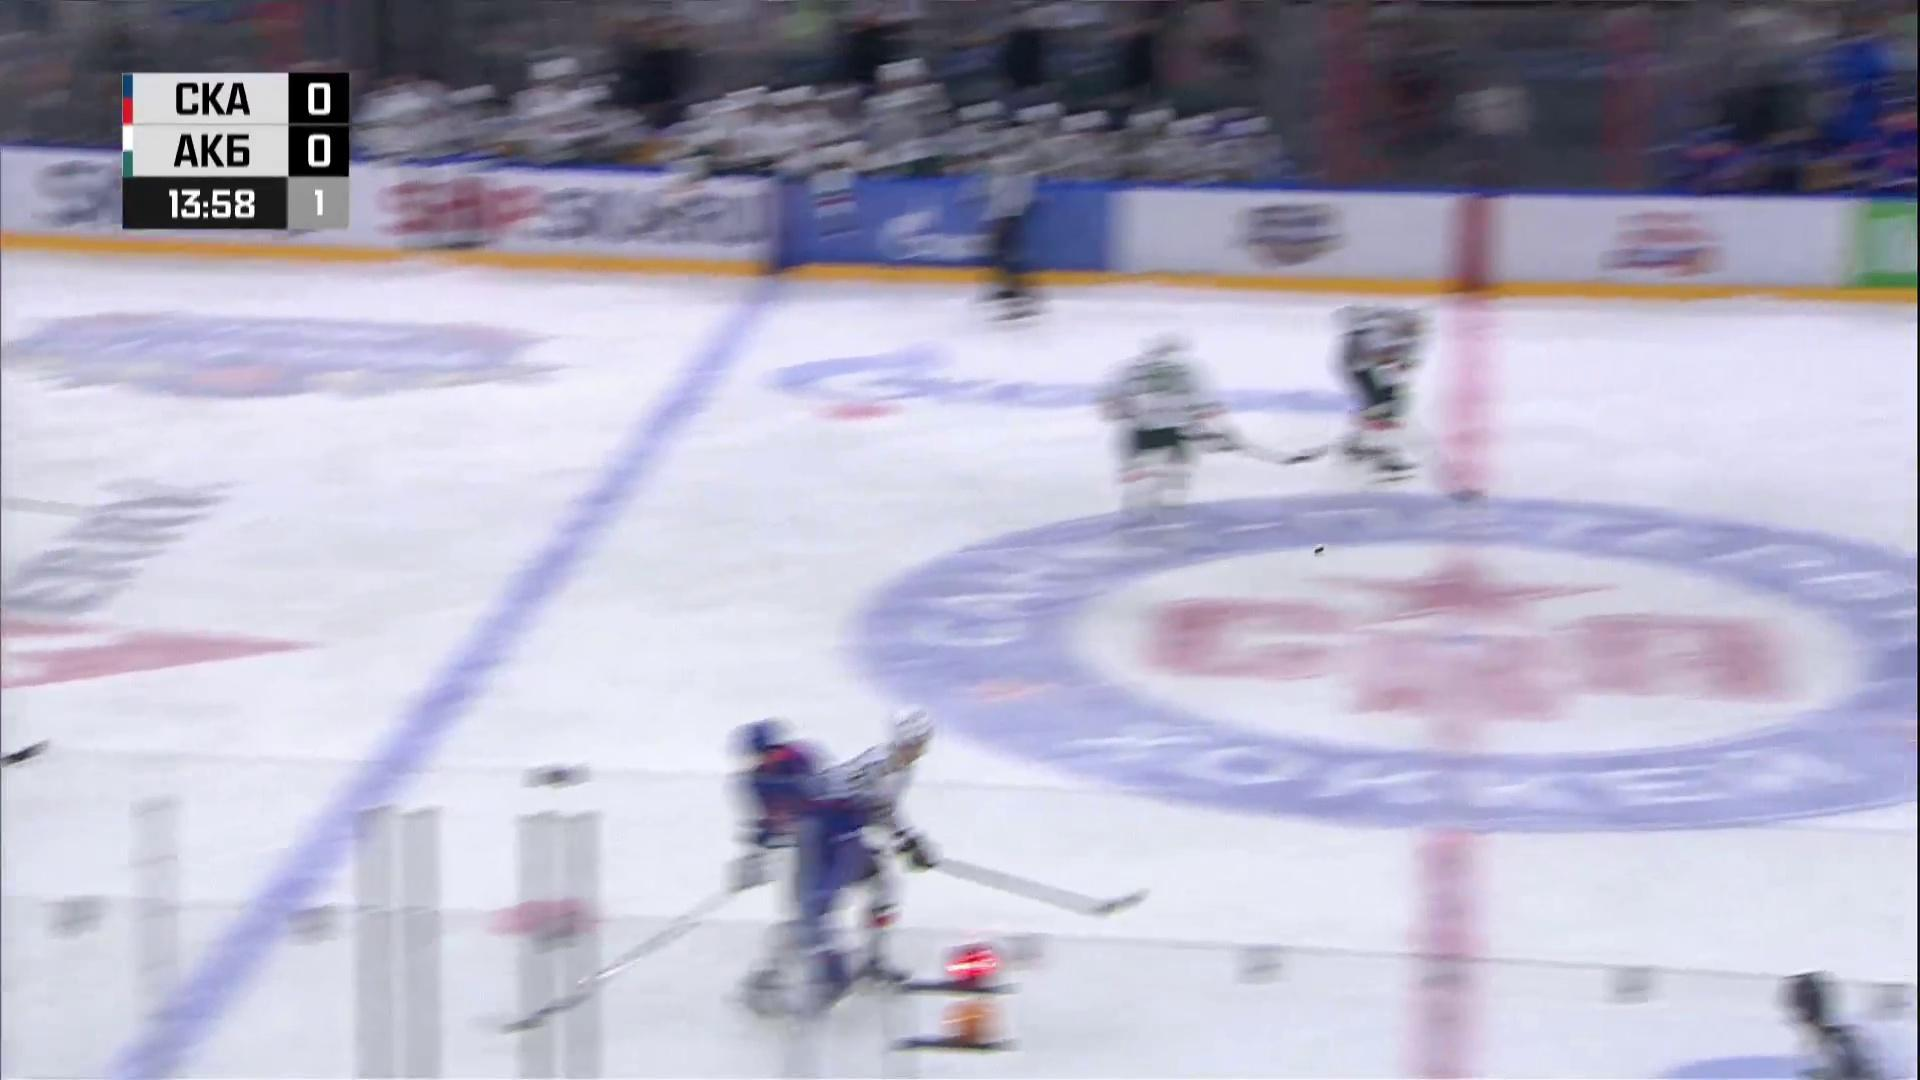ball: (1313, 547, 1324, 555)
